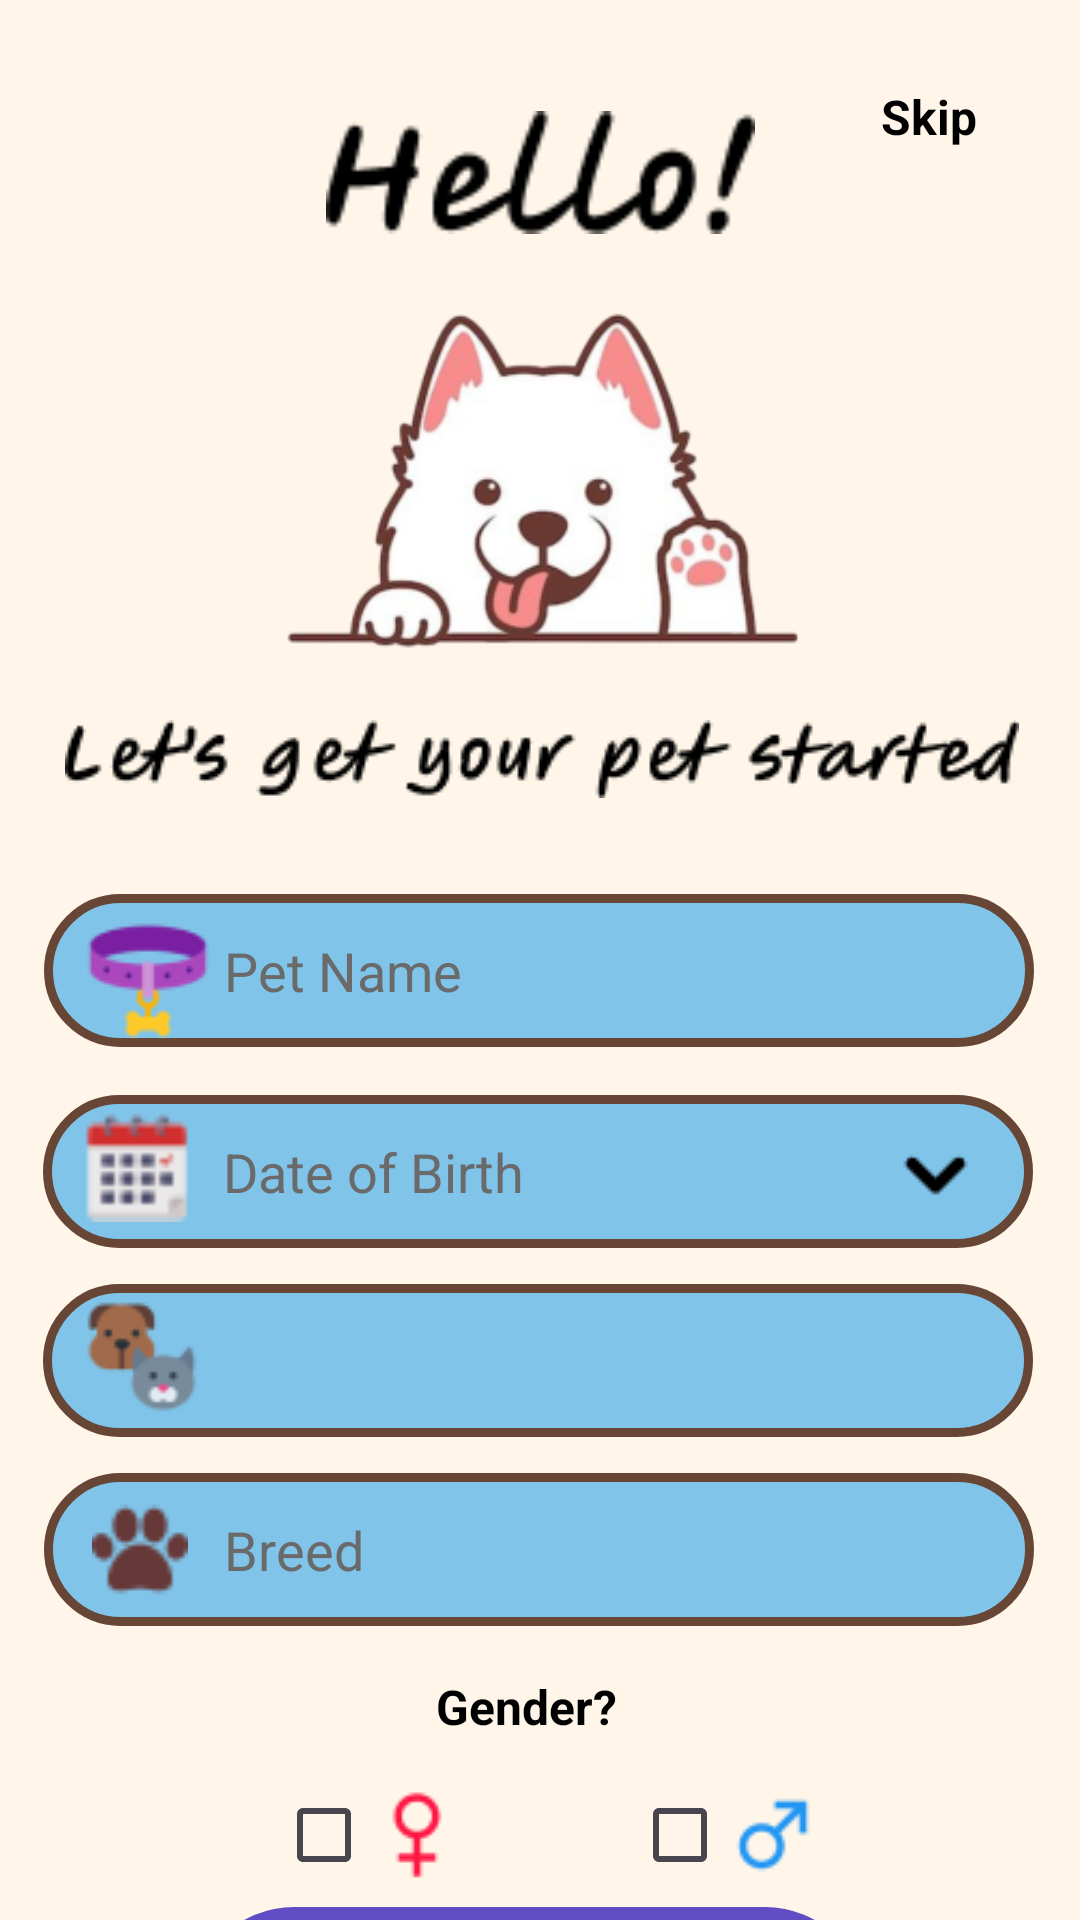

Point at icon controls on the screen. Image size 1080x1920, points as [x,y].
arrow down: [935,1175]
calendar: [137,1168]
collar: [148,985]
paw: [140,1549]
pets: [141,1356]
